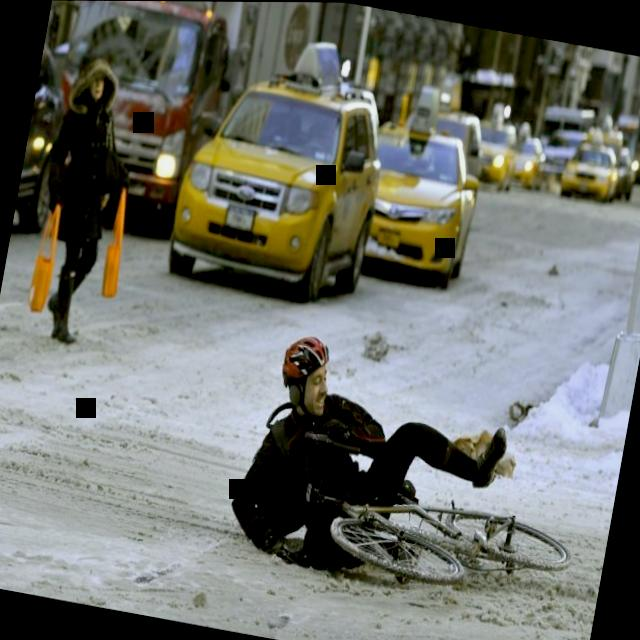Fall-Detected: (216, 305, 547, 592)
